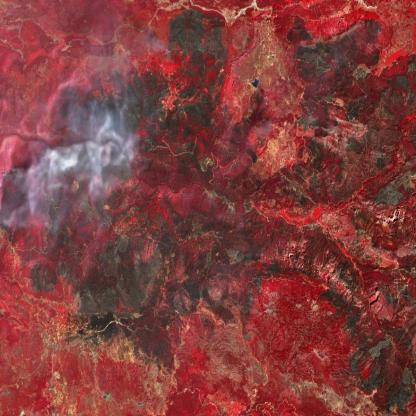fire: (0, 131, 70, 189), (157, 38, 185, 75), (254, 107, 282, 142)
